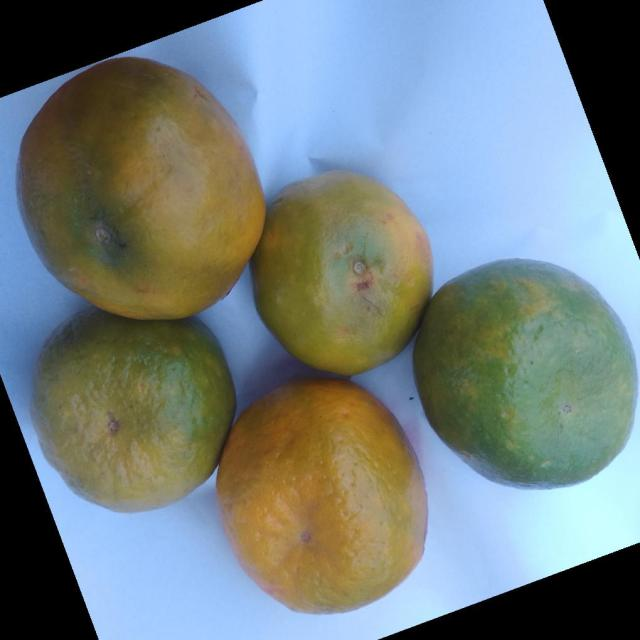fresh orange: (15, 55, 266, 320), (412, 256, 638, 490), (215, 376, 428, 614), (29, 307, 236, 514), (250, 168, 433, 376)
